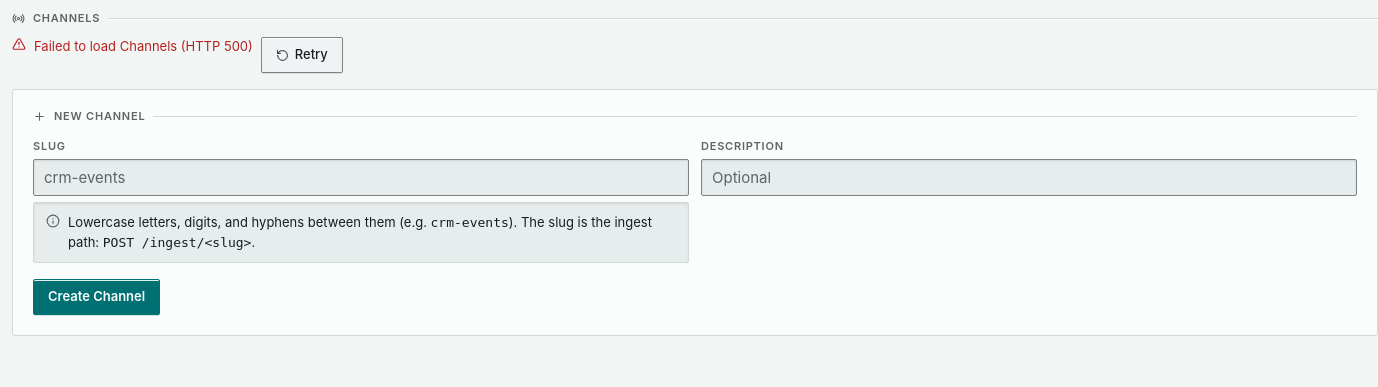
Test: ChannelDirectoryPage — freshness and retry › shows a Retry control when loading Channels fails
expect the message "Failed to load Channels (HTTP 500) Retry" is shown: met, box [12,37,343,73]
Click the button "Retry".
click(302, 55)  # box [261,37,343,73]
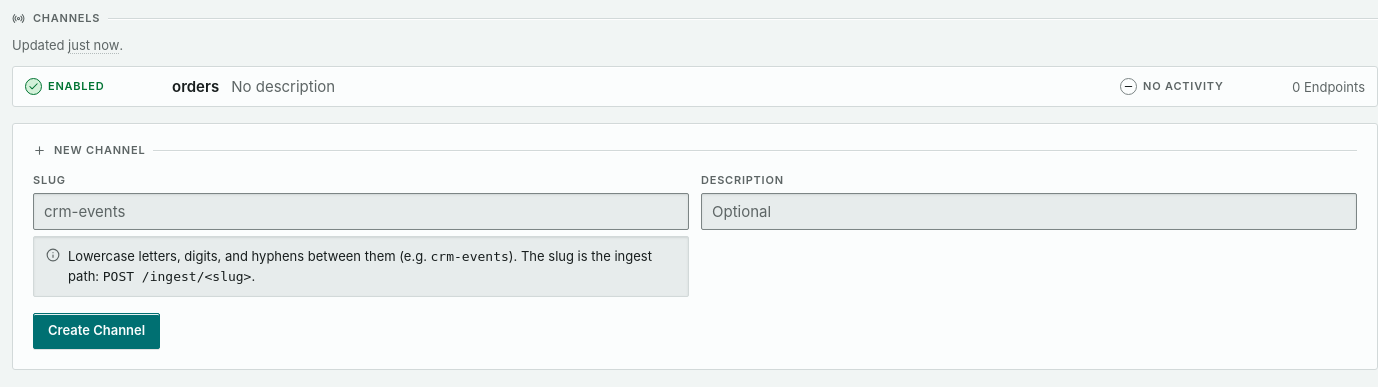
expect the text "orders" is shown: met, box [172,77,219,96]
